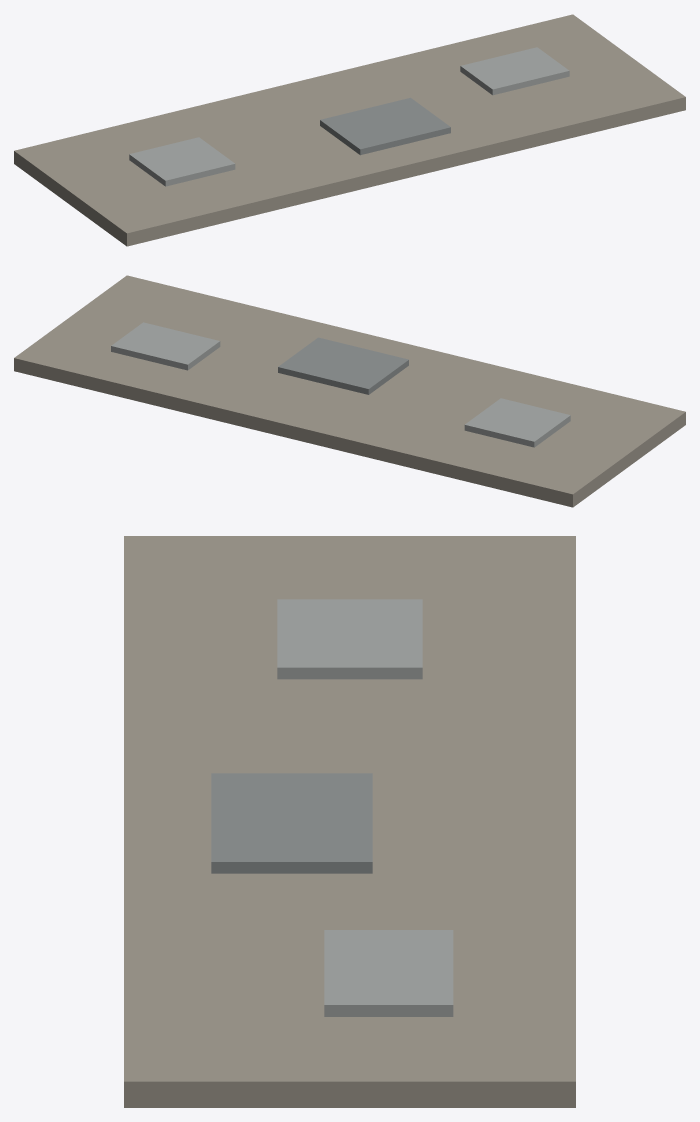
Rendered from road_stone.glb.
3 views of the same model, one above another, from view 1: azimuth 30°, elevation 25°; view 2: azimuth 150°, elevation 25°; view 3: azimuth 270°, elevation 25° (orthographic). The views are drawn at different scales.
Visible parts, largest first — view 1: road_stone; view 2: road_stone; view 3: road_stone.
Part boxes in pixels (x1=…): road_stone: x1=14, y1=14, x2=685, y2=246; road_stone: x1=14, y1=275, x2=685, y2=507; road_stone: x1=124, y1=536, x2=575, y2=1107.
Size of the model in its own units: 4 by 0.13 by 1.4.
Materials: 3 (3 with a texture image).
